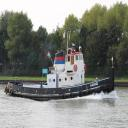tugboat: (5, 44, 116, 106)
